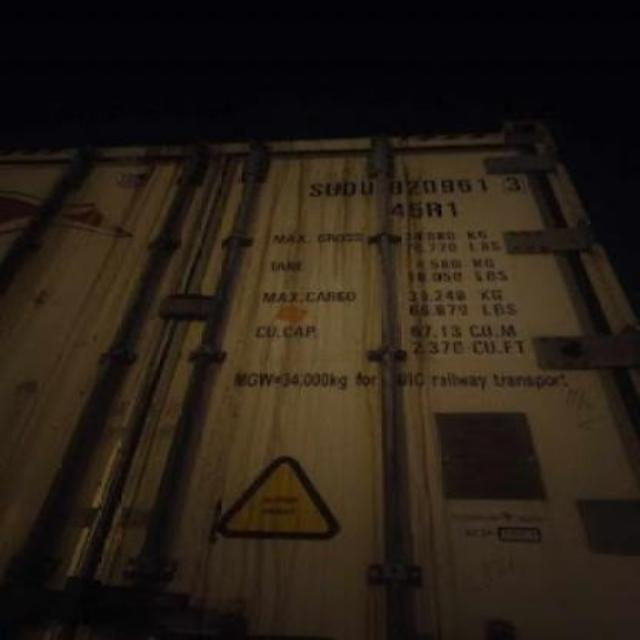0: (421, 174, 434, 196)
1: (474, 173, 490, 197)
2: (402, 174, 418, 198)
3: (502, 172, 526, 198)
6: (456, 173, 474, 197)
8: (386, 172, 399, 200)
9: (438, 172, 454, 195)
D: (338, 174, 356, 202)
S: (306, 174, 322, 202)
U: (356, 172, 374, 202), (322, 175, 338, 201)
